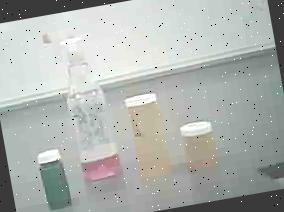Bottle A: (120, 83, 178, 182)
Bottle B: (177, 112, 227, 174)
Bottle C: (31, 143, 81, 212)
hazard: (40, 13, 130, 190)
